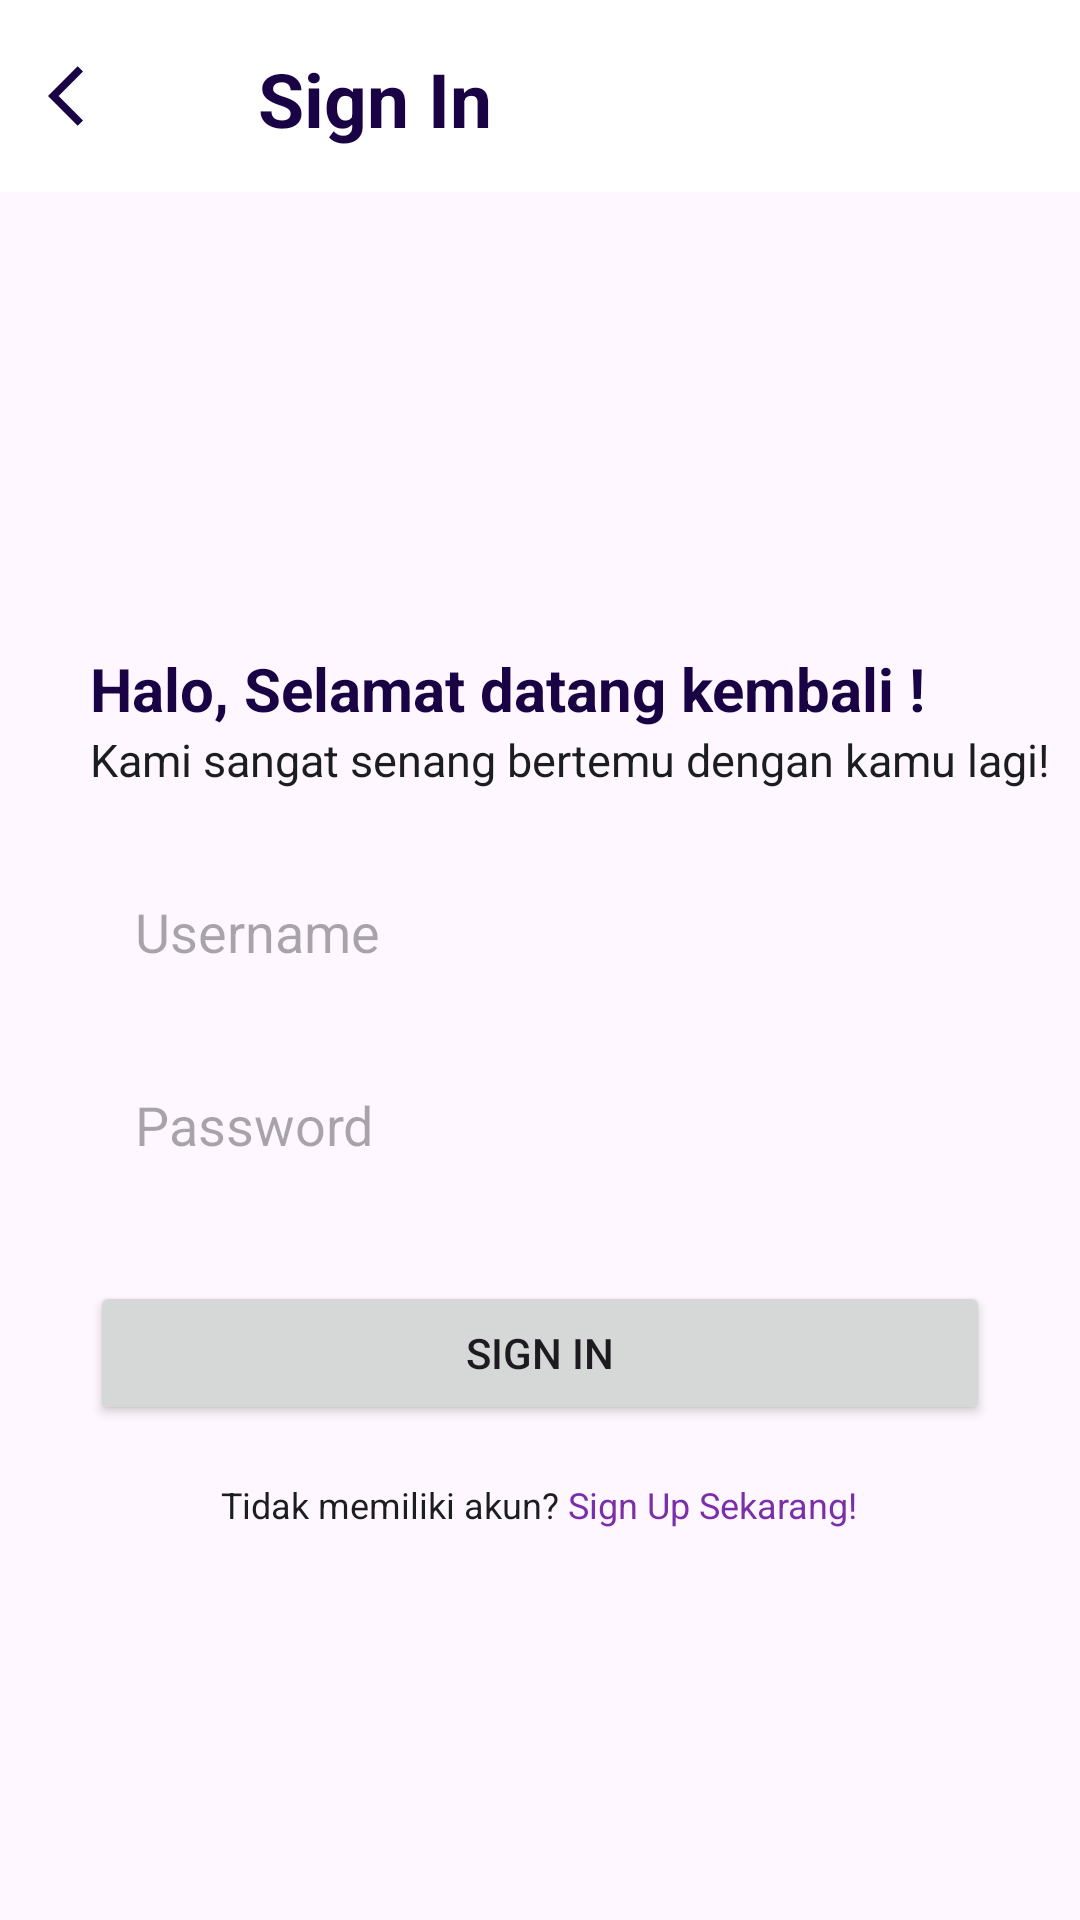

Icon bounding boxes for this 1080 x 1920 phone screenshot, format {"left": x1, "top": y1, "right": x2, "bottom": y2}:
arrow back: {"left": 48, "top": 66, "right": 83, "bottom": 126}
